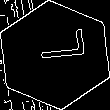L_W: (26, 37, 84, 73)
